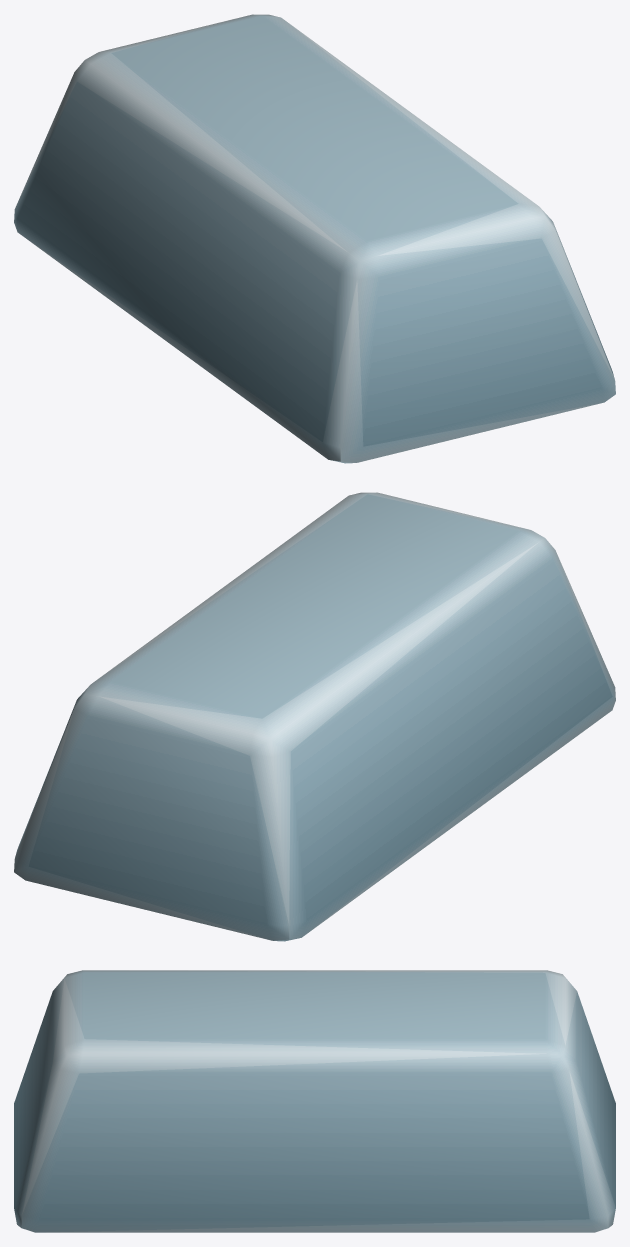
File: kk_silver_bar.glb
3 views of the same model, one above another, from view 1: azimuth 30°, elevation 25°; view 2: azimuth 150°, elevation 25°; view 3: azimuth 270°, elevation 25° (orthographic). The views are drawn at different scales.
Visible parts, largest first — view 1: Silver_Bar; view 2: Silver_Bar; view 3: Silver_Bar.
Part boxes in pixels (x1=…): Silver_Bar: x1=14, y1=14, x2=615, y2=463; Silver_Bar: x1=14, y1=492, x2=615, y2=941; Silver_Bar: x1=14, y1=970, x2=615, y2=1232.
Size of the model in its own units: 0.125 by 0.0781 by 0.25.
Materials: 1 (1 with a texture image).
